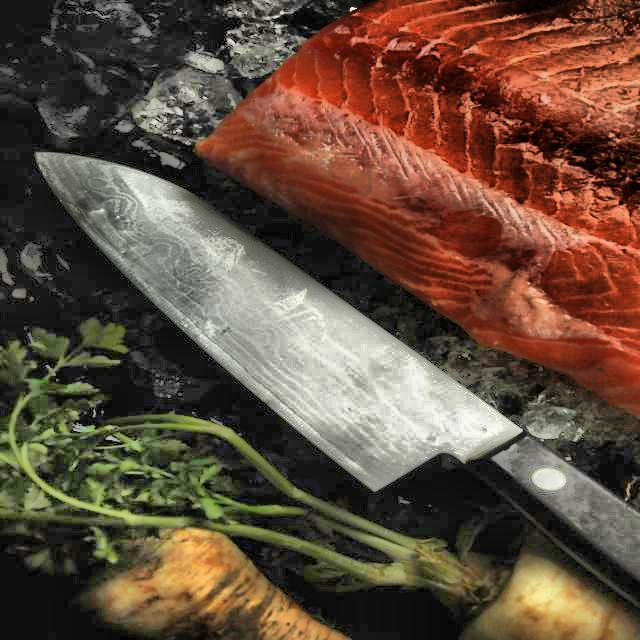knife: (24, 144, 640, 589)
